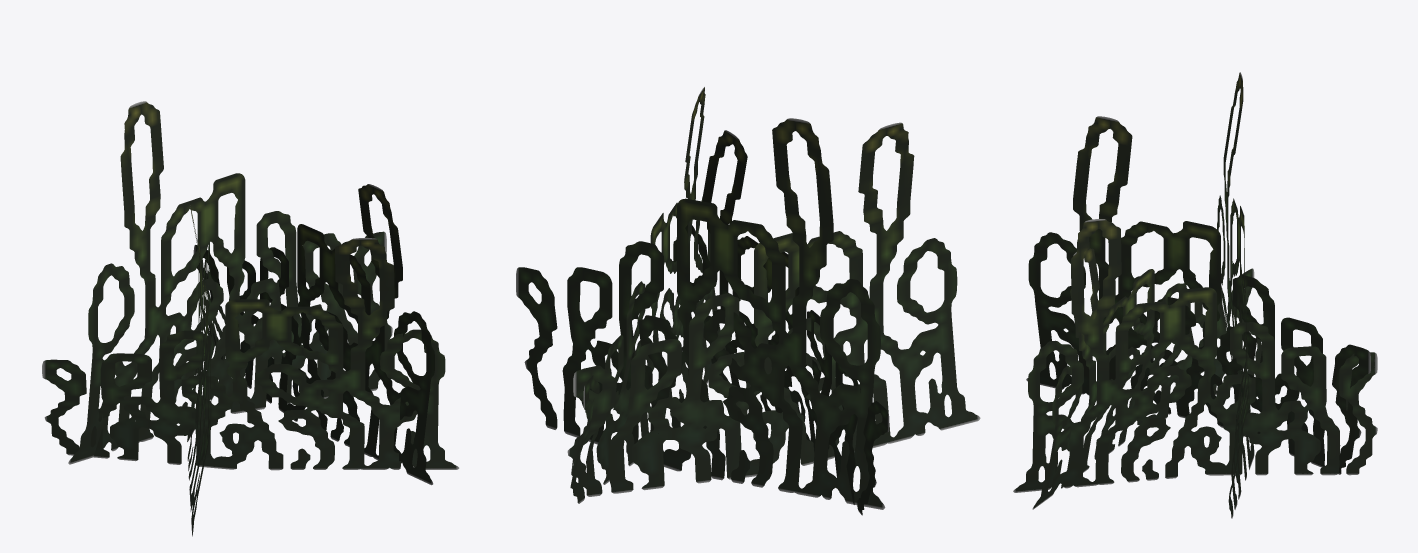
The model's file is LoopVines.fbx.
3 views of the same model, side by side, from view 1: azimuth 30°, elevation 25°; view 2: azimuth 150°, elevation 25°; view 3: azimuth 270°, elevation 25° (orthographic). The views are drawn at different scales.
Visible parts, largest first — view 1: LoopVines; view 2: LoopVines; view 3: LoopVines.
Boxes of the visible parts, x1,y1,x2,y2 form: LoopVines: (42,101,459,536); LoopVines: (516,87,980,515); LoopVines: (1013,72,1377,518).
Bounding box in the file's own units: 439 × 400 × 398.
Materials: 1 (1 with a texture image).
